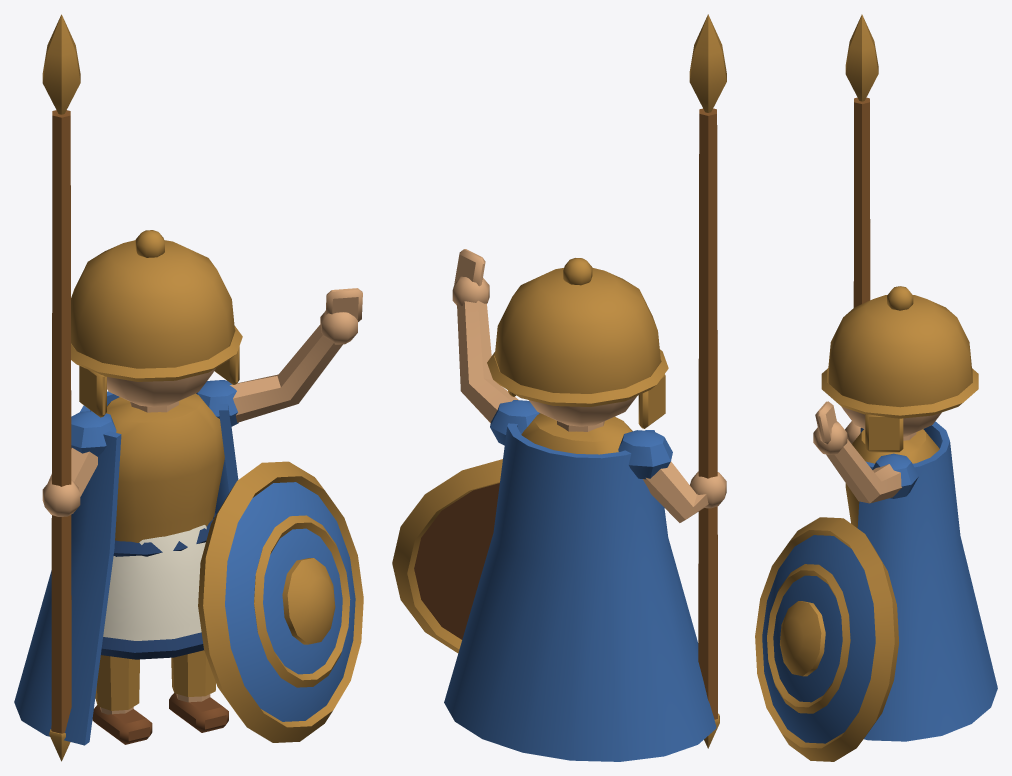
Rendered from polydamas.glb.
The picture shows the model from 3 angles, left to right: view 1: azimuth 30°, elevation 25°; view 2: azimuth 150°, elevation 25°; view 3: azimuth 270°, elevation 25°; orthographic projection. The views are drawn at different scales.
Parts seen in each view (by area): view 1: polydamas; view 2: polydamas; view 3: polydamas.
Boxes of the visible parts, x1=… form: polydamas: x1=14, y1=14, x2=363, y2=761; polydamas: x1=392, y1=14, x2=726, y2=761; polydamas: x1=755, y1=14, x2=997, y2=761.
Size of the model in its own units: 0.5139 by 1.13 by 0.3825.
